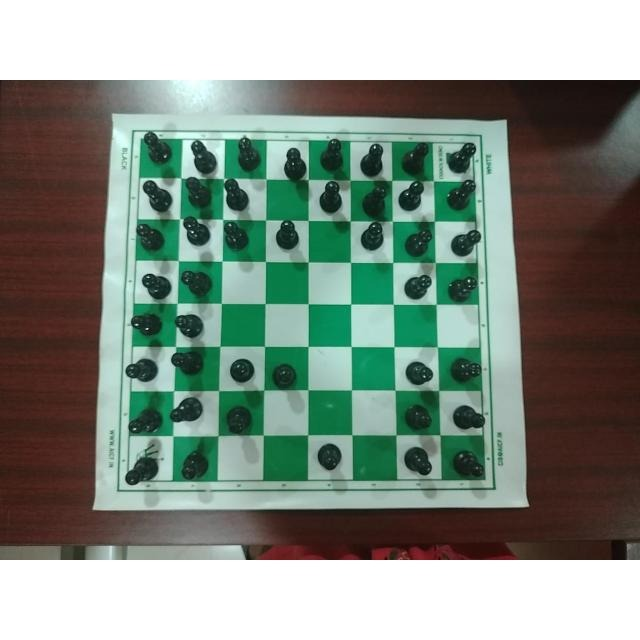black-pawn: (124, 400, 166, 440), (134, 177, 180, 213), (445, 444, 491, 480), (134, 128, 176, 167), (186, 132, 220, 176), (126, 446, 160, 490), (449, 398, 489, 434), (442, 354, 486, 386), (134, 215, 170, 254), (218, 214, 254, 253), (355, 216, 391, 255), (176, 446, 212, 485), (221, 171, 254, 213), (169, 397, 211, 430), (280, 141, 311, 185), (222, 397, 256, 437), (179, 263, 215, 300), (402, 397, 437, 435), (178, 214, 214, 250), (444, 137, 478, 174), (181, 176, 218, 210), (442, 176, 476, 213), (138, 264, 172, 301), (400, 444, 437, 478), (445, 268, 478, 306), (232, 133, 264, 172), (270, 216, 302, 255), (401, 267, 437, 301), (269, 357, 303, 393), (169, 348, 207, 380), (128, 308, 165, 340), (359, 142, 390, 180), (402, 355, 436, 389), (360, 180, 392, 216), (402, 223, 434, 259), (171, 308, 207, 340), (322, 132, 349, 173), (399, 142, 433, 174), (124, 355, 158, 387), (317, 180, 347, 216), (397, 180, 430, 212), (448, 226, 480, 258), (315, 437, 344, 471), (226, 353, 255, 384)
